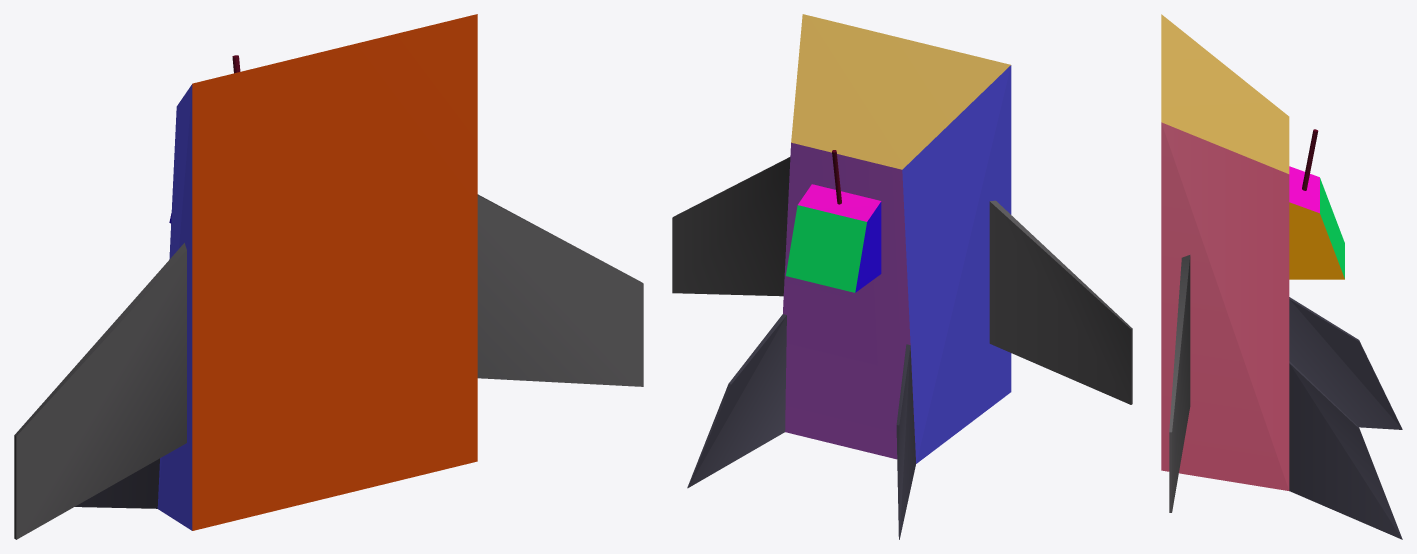
Rendered from hierarchy.dae.
3 views of the same model, side by side, from view 1: azimuth 30°, elevation 25°; view 2: azimuth 150°, elevation 25°; view 3: azimuth 270°, elevation 25° (orthographic). The views are drawn at different scales.
Visible parts, largest first — view 1: Ship, RightWing, LeftWing, RightTail; view 2: Ship, RightWing, LeftWing, Turret, LeftTail, RightTail; view 3: Ship, LeftTail, RightTail, Turret, LeftWing.
Part boxes in pixels (bbox=[...]): Ship: bbox=[157, 14, 477, 530]; RightWing: bbox=[14, 243, 186, 539]; LeftWing: bbox=[477, 194, 643, 386]; RightTail: bbox=[75, 458, 159, 508]; Ship: bbox=[783, 14, 1011, 463]; RightWing: bbox=[989, 200, 1132, 404]; LeftWing: bbox=[672, 157, 790, 296]; Turret: bbox=[786, 150, 881, 292]; LeftTail: bbox=[687, 314, 786, 488]; RightTail: bbox=[896, 344, 915, 539]; Ship: bbox=[1161, 14, 1289, 490]; LeftTail: bbox=[1289, 361, 1402, 539]; RightTail: bbox=[1289, 297, 1402, 429]; Turret: bbox=[1289, 129, 1344, 279]; LeftWing: bbox=[1169, 255, 1190, 512].
Size of the model in its own units: 6.6 by 2.83 by 5.38.
